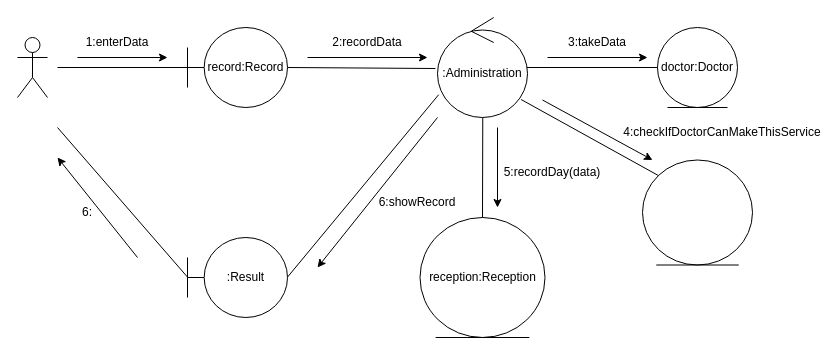
The diagram is 838 pixels wide and 355 high, and some of its shapes have lost their labels. Each missing label, with the centre of its shape:
:User: [32,67]
services:Services: [697,212]
